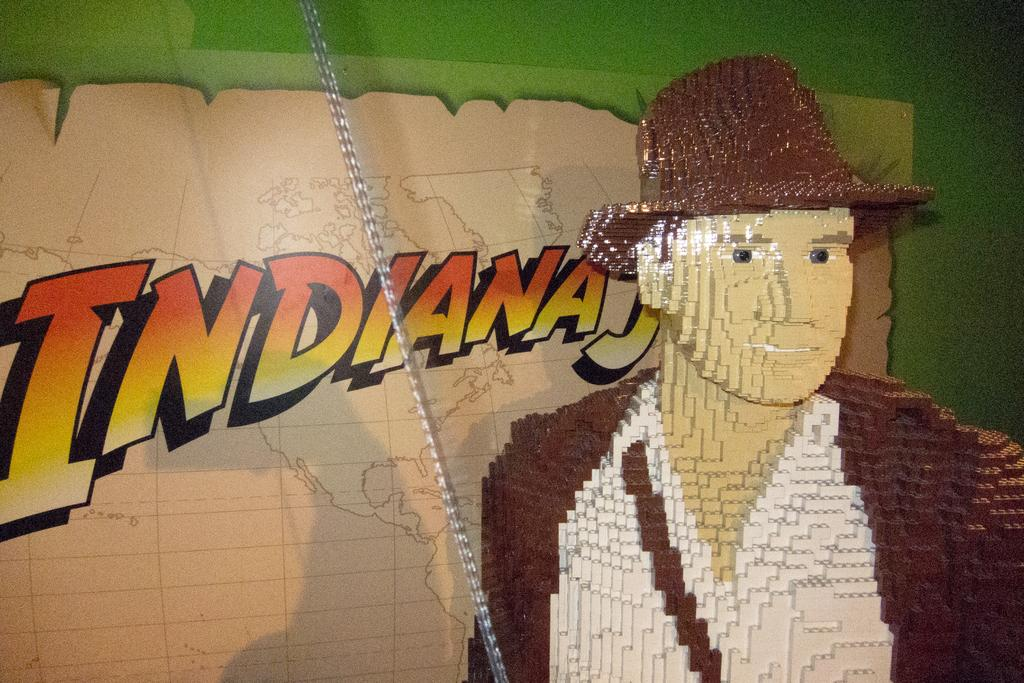Hat: (578, 56, 934, 281)
